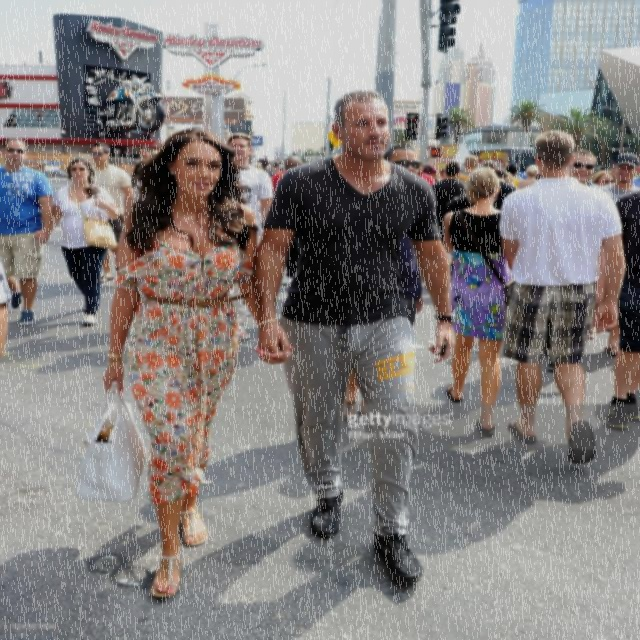pessoa: (66, 120, 300, 605), (244, 86, 458, 594), (111, 420, 625, 530), (1, 532, 502, 639), (490, 123, 628, 472), (342, 145, 424, 421), (440, 164, 510, 437), (19, 316, 287, 386), (32, 156, 124, 330), (413, 348, 622, 418), (0, 135, 55, 328), (604, 187, 640, 430), (600, 151, 640, 359), (86, 140, 134, 284), (223, 132, 275, 252), (270, 153, 306, 288), (461, 152, 541, 200), (430, 161, 470, 247), (568, 148, 616, 200), (0, 250, 20, 364), (245, 149, 302, 180), (126, 143, 164, 188), (588, 165, 640, 192), (413, 159, 450, 193)
